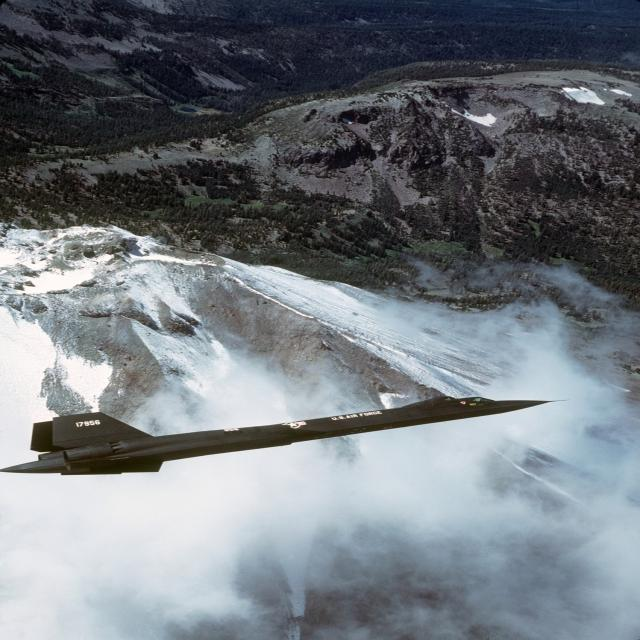MIL_Plane: (1, 396, 570, 475)
